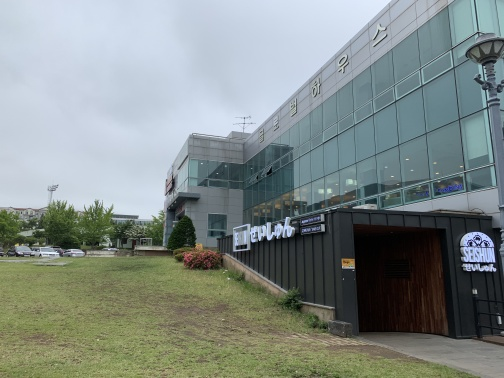Global House: (152, 29, 498, 319)
